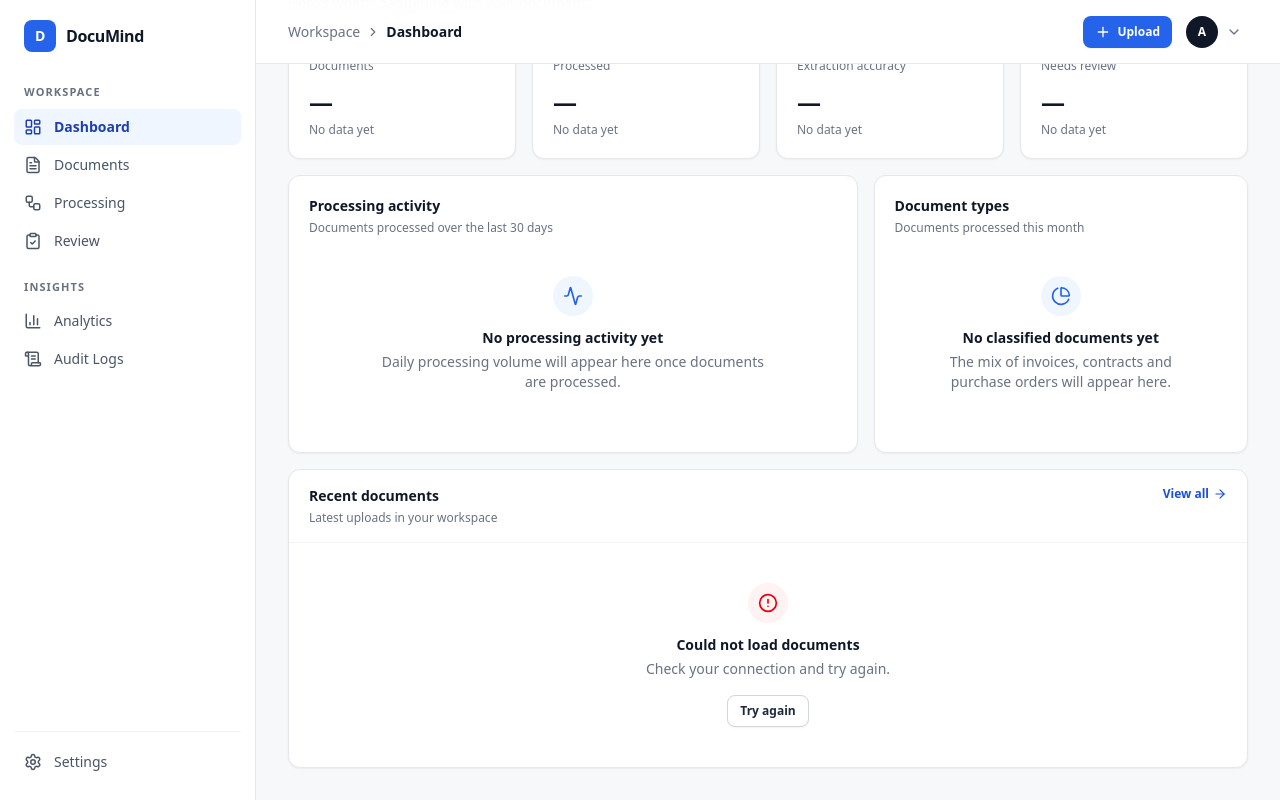
Test: DashboardPage › shows an error for recent documents and recovers on retry
(page scrolled)
Check: the message shows "Could not load documents", box x1=676 y1=635 x2=860 y2=654
Click the button "Try again".
click(768, 711)  # box x1=727 y1=695 x2=809 y2=727
(page scrolled)
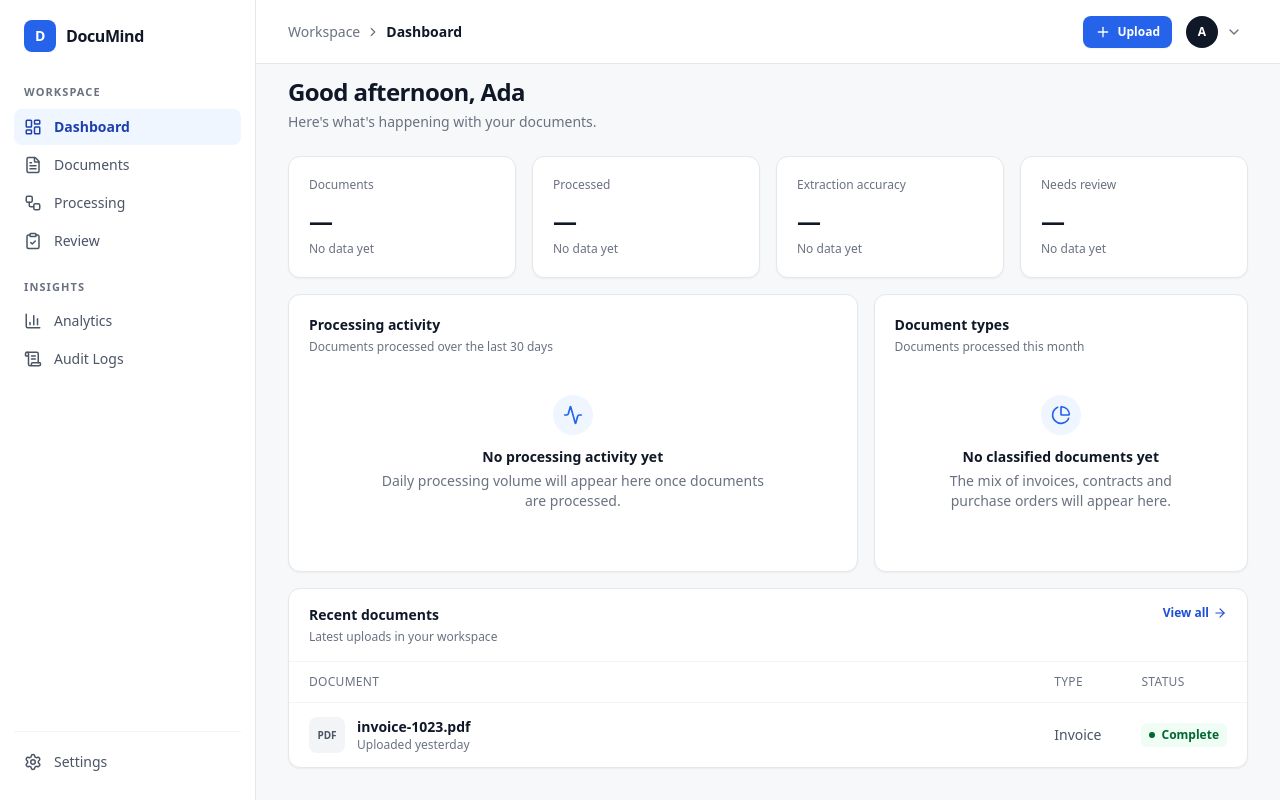
Check: the link "invoice-1023.pdf" is shown, box x1=357 y1=717 x2=470 y2=737
Check: the message "Could not load documents Check your connection and try again. Try again" is gone
